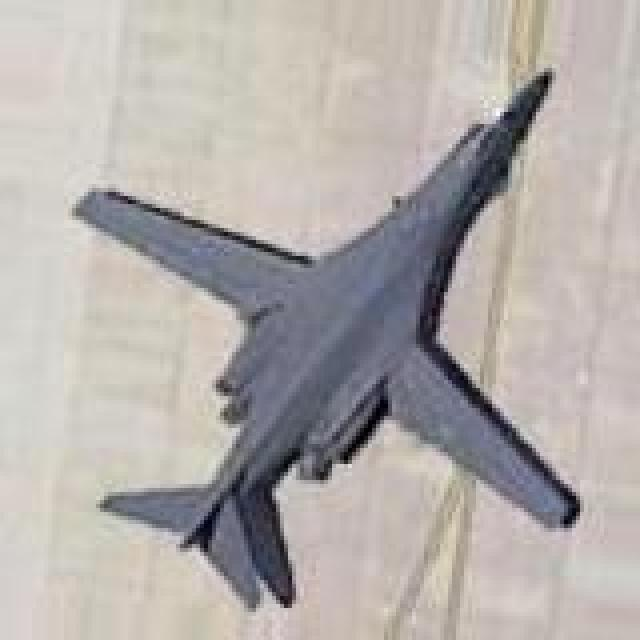B-1_TopDown: (68, 60, 584, 612)
